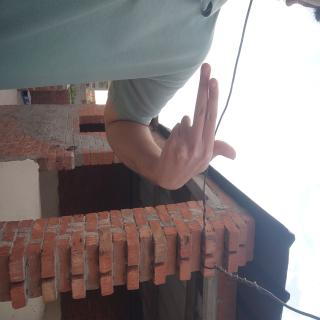GHAYN: (46, 108, 146, 220)
